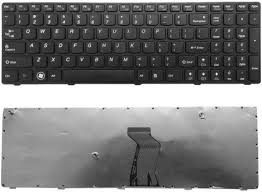keyboard: (7, 0, 260, 86)
